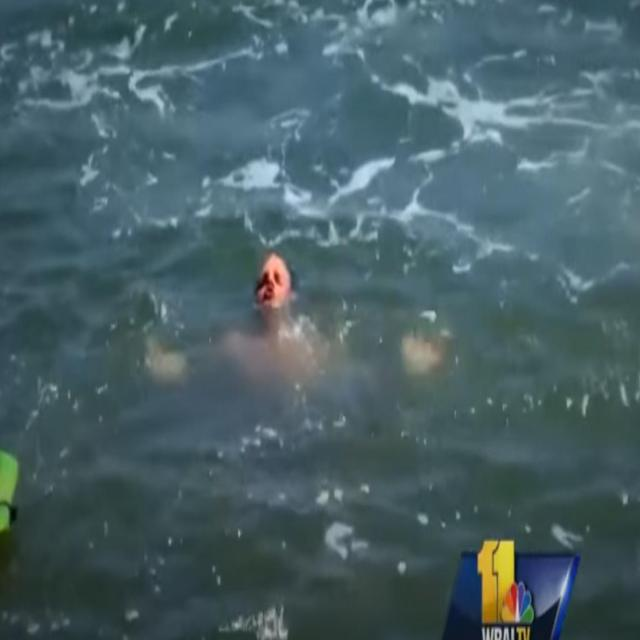Out of Water: (245, 243, 309, 352)
